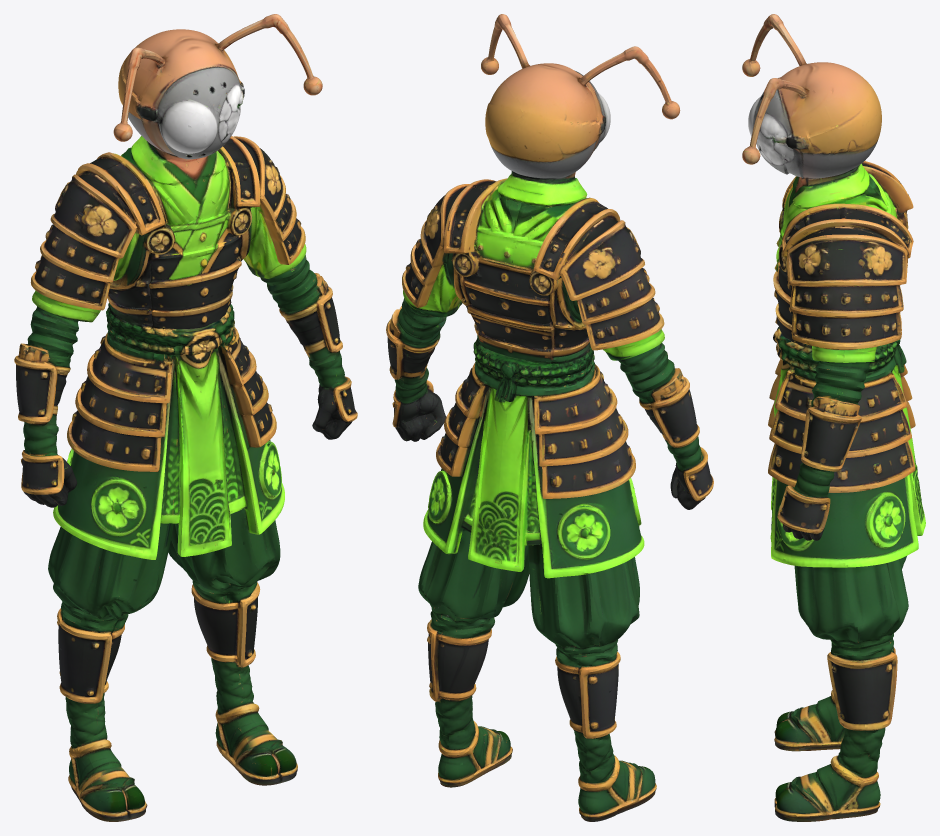
File: rebel_4998_static_source_shogun_v5c_g2.glb
3 views of the same model, side by side, from view 1: azimuth 30°, elevation 25°; view 2: azimuth 150°, elevation 25°; view 3: azimuth 270°, elevation 25° (orthographic). The views are drawn at different scales.
Visible parts, largest first — view 1: Mesh_0; view 2: Mesh_0; view 3: Mesh_0.
Boxes of the visible parts, x1,y1,x2,y2 form: Mesh_0: (14,14,357,821); Mesh_0: (386,14,713,821); Mesh_0: (742,14,925,821).
Bounding box in the file's own units: 0.8454 × 1.9 × 0.4336.
1 material, 1 textured.
